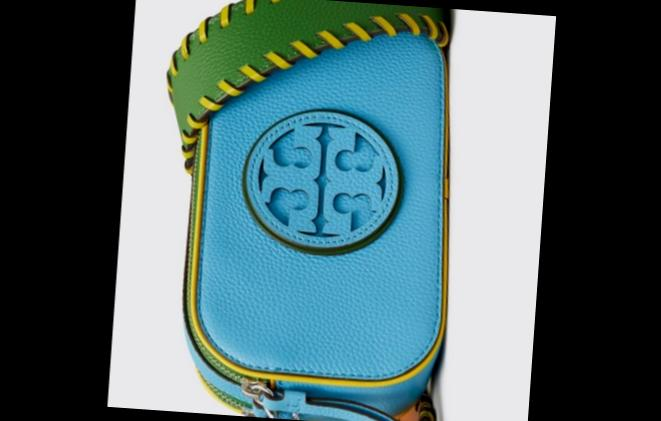TORY-BURCH: (235, 101, 407, 260)
